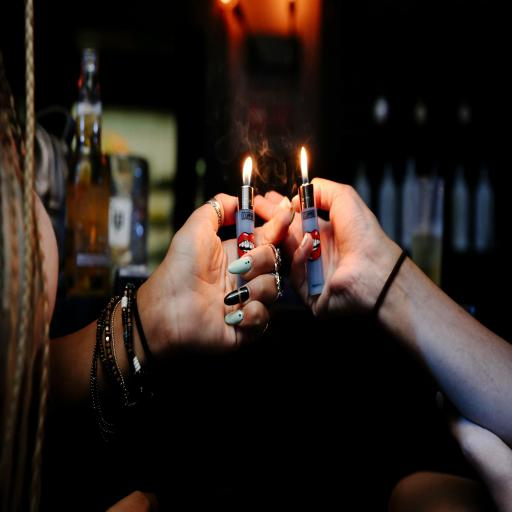lighter: (287, 128, 336, 317), (233, 146, 268, 313)
